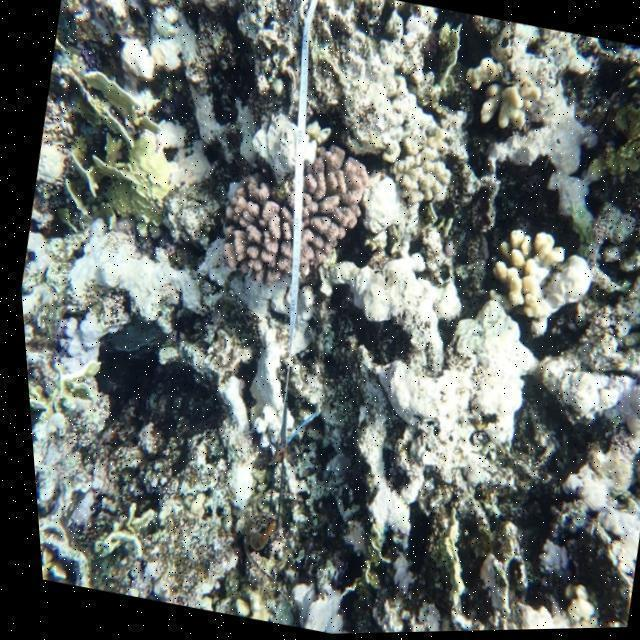Healthy Coral: (222, 159, 378, 280), (437, 30, 569, 156), (464, 207, 566, 336)
